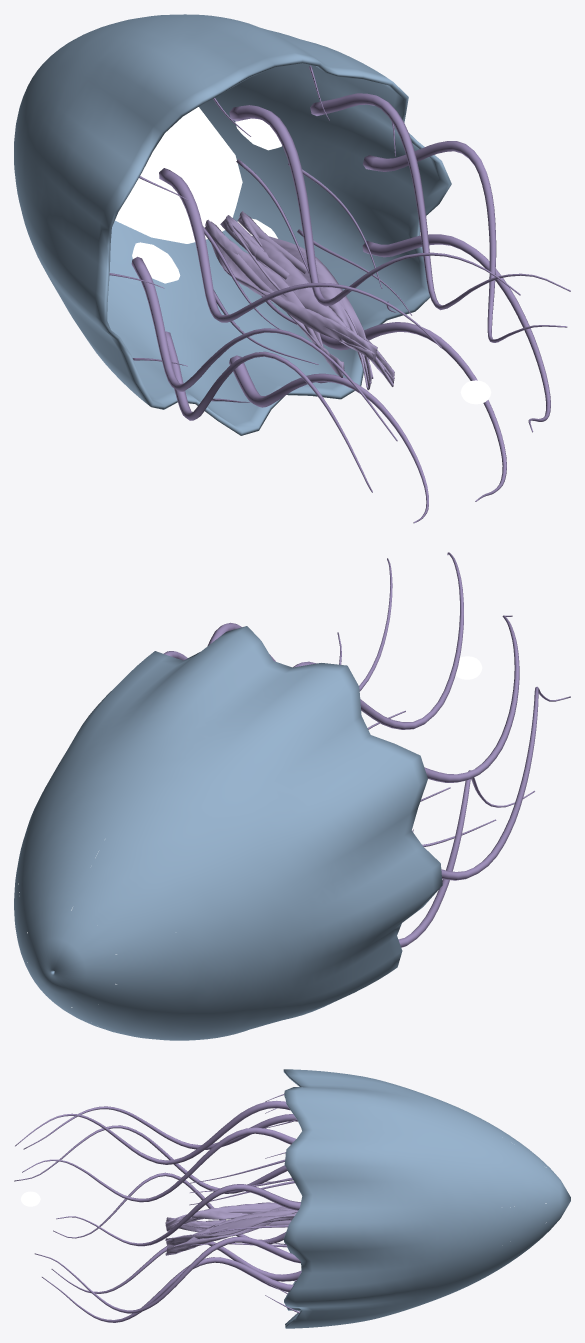
3 renders of one model, top to bottom at view 1: azimuth 30°, elevation 25°; view 2: azimuth 150°, elevation 25°; view 3: azimuth 270°, elevation 25°, orthographic. The views are drawn at different scales.
Parts seen in each view (by area): view 1: RIMWARD_HULL, RIMWARD_EMISSIVE; view 2: RIMWARD_HULL; view 3: RIMWARD_HULL.
Boxes of the visible parts, left/top/right/bottom form: RIMWARD_HULL: left=14, top=14, right=570, bottom=523; RIMWARD_EMISSIVE: left=115, top=107, right=281, bottom=283; RIMWARD_HULL: left=14, top=552, right=570, bottom=1040; RIMWARD_HULL: left=14, top=1069, right=570, bottom=1328.
Bounding box in the file's own units: 14.75 × 14.76 × 32.
